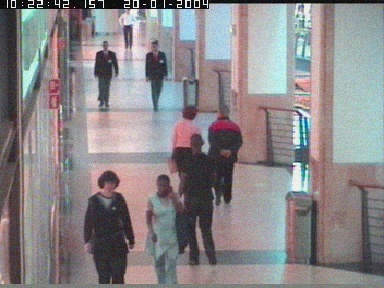person: (82, 167, 134, 283), (144, 174, 195, 284), (178, 133, 216, 265), (204, 108, 241, 201), (168, 108, 202, 197), (94, 41, 118, 107), (144, 40, 167, 108), (117, 9, 136, 49)
